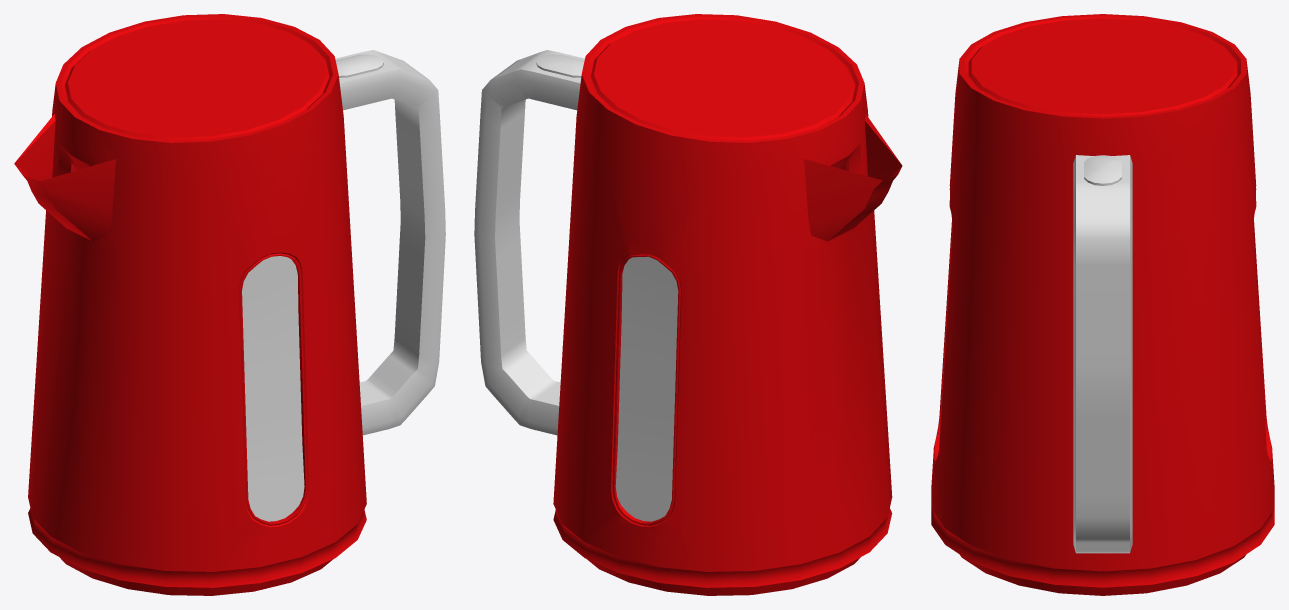
The model's file is чайник.fbx.
The picture shows the model from 3 angles, left to right: view 1: azimuth 30°, elevation 25°; view 2: azimuth 150°, elevation 25°; view 3: azimuth 270°, elevation 25°; orthographic projection. The views are drawn at different scales.
Visible parts, largest first — view 1: base, ruchka, steklo, Circle; view 2: base, ruchka, steklo, Circle; view 3: base, ruchka, Circle.
Boxes of the visible parts, x1,y1,x2,y2 form: base: (14, 14, 366, 595); ruchka: (335, 50, 445, 435); steklo: (242, 256, 304, 521); Circle: (335, 54, 383, 77); base: (553, 14, 902, 595); ruchka: (474, 50, 584, 435); steklo: (615, 256, 678, 521); Circle: (536, 54, 584, 77); base: (931, 14, 1274, 595); ruchka: (1073, 155, 1132, 553); Circle: (1084, 155, 1121, 185).
Bounding box in the file's own units: 30.71 × 43.33 × 46.65.
